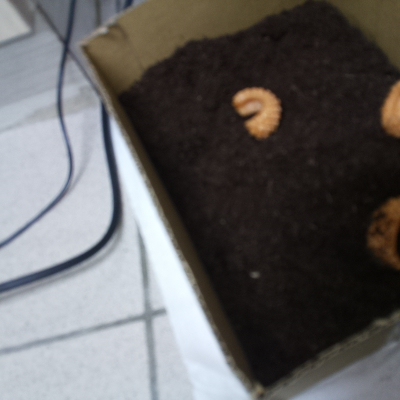eggs: (231, 78, 285, 147), (361, 189, 400, 275), (379, 74, 400, 141)
